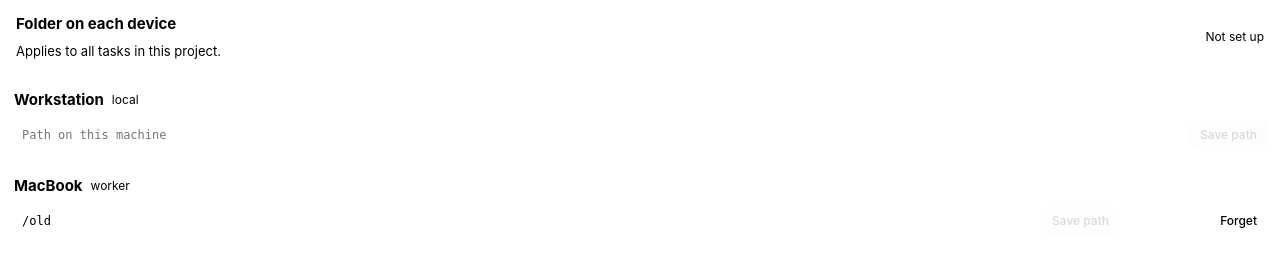
Test: ProjectWorkspaceHosts › releases an acknowledged draft so later server changes remain visible
Replace the text in the field named "Path on this machine · MacBook" with "/saved" at (524, 221), box [14, 208, 1033, 234]
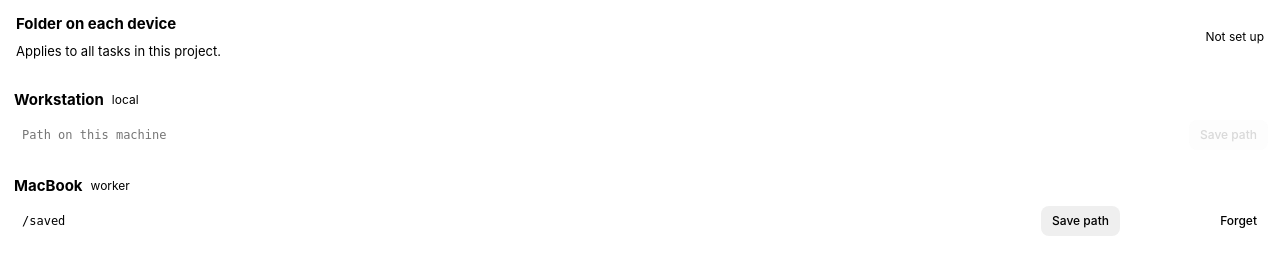
Click the 2nd button "Save path" at (1080, 221), box [1041, 206, 1120, 236]
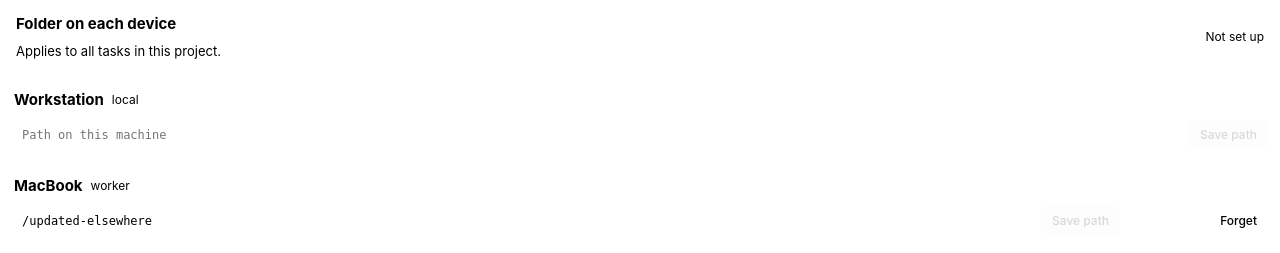
Now the 2nd button "Save path" is disabled, box [1041, 206, 1120, 236]
Now the field named "Path on this machine · MacBook" holds "/updated-elsewhere", box [14, 208, 1033, 234]
